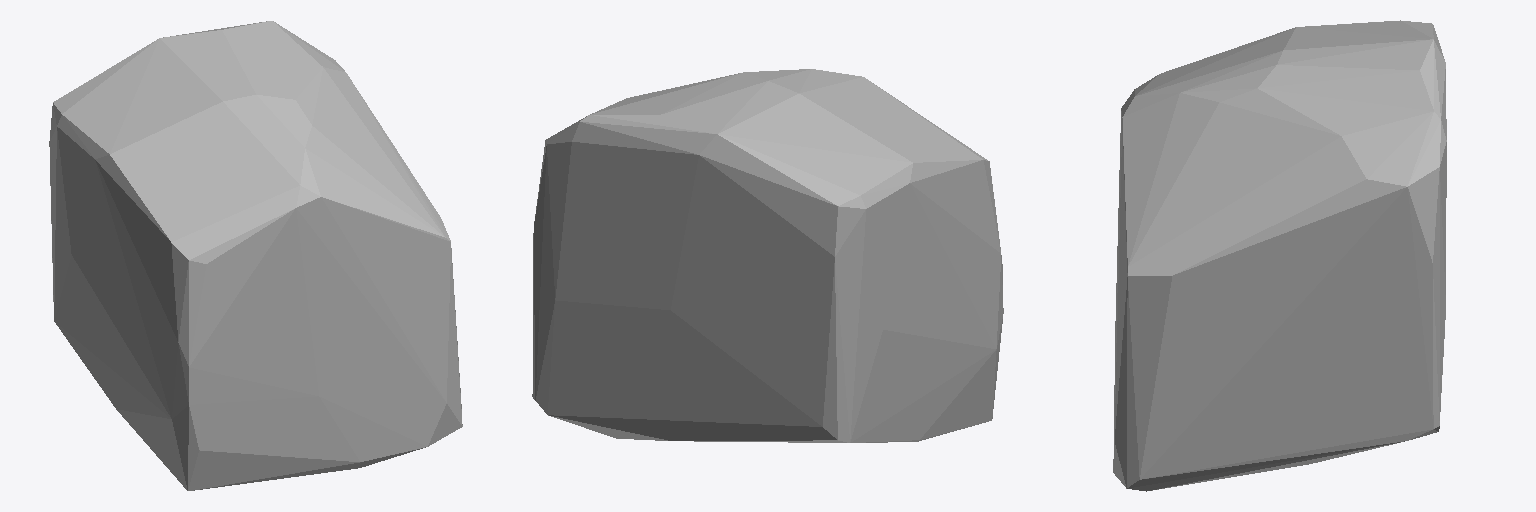
The robot description file, URDF, robot "root":
<robot name="root">
  <link name="link_rock28_convex_piece_0">
    <inertial>
      <origin rpy="0 0 0" xyz="0 0 0"/>
      <mass value="2.19E+06"/>
      <inertia ixx="7.69E+09" ixy="1.49E+08" ixz="-2.32E+07" iyy="7.38E+09" iyz="2.80E+08" izz="5.54E+09"/>
    </inertial>
    <visual>
      <origin rpy="0 0 0" xyz="0 0 0"/>
      <geometry>
        <mesh filename="rock28_convex_piece_0.obj" scale="1.0000E+00 1.0000E+00 1.0000E+00"/>
      </geometry>
      <material name="">
        <color rgba="7.50E-01 7.50E-01 7.50E-01 1"/>
      </material>
    </visual>
    <collision>
      <origin rpy="0 0 0" xyz="0 0 0"/>
      <geometry>
        <mesh filename="rock28_convex_piece_0.obj" scale="1.0000E+00 1.0000E+00 1.0000E+00"/>
      </geometry>
    </collision>
  </link>
</robot>

--- Facts derived from the render (not from the file) ---
3 views of the same robot in one strip: view 1: azimuth 30°, elevation 25°; view 2: azimuth 150°, elevation 25°; view 3: azimuth 270°, elevation 25° (orthographic).
Model root with 1 links and 0 joints (none), rooted at link_rock28_convex_piece_0, posed all joints at 0.
Visible links, largest first — view 1: link_rock28_convex_piece_0; view 2: link_rock28_convex_piece_0; view 3: link_rock28_convex_piece_0.
Boxes of the visible links, box(x1,y1,x2,y2) form: link_rock28_convex_piece_0: box(49, 21, 462, 490); link_rock28_convex_piece_0: box(532, 69, 1003, 442); link_rock28_convex_piece_0: box(1113, 20, 1446, 491).
Size in the robot's own frame: 143 by 130 by 163 metres.
Meshes: 1 distinct files referenced, 1 mesh visuals loaded (1 OBJ).
